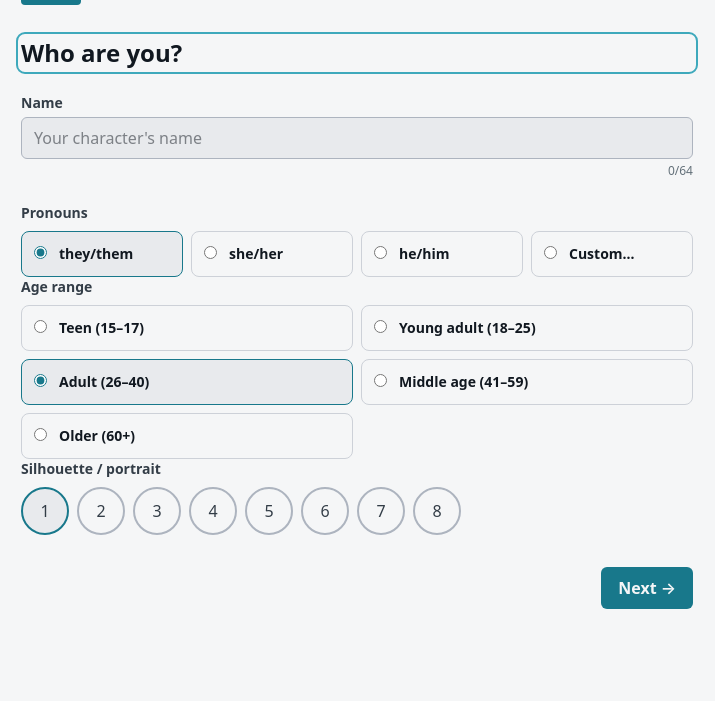
Test: CharacterCreation – step navigation › Back button preserves the name entered
Type "Alex" into the field labelled "Name" at [357, 138], box [21,117,693,159]
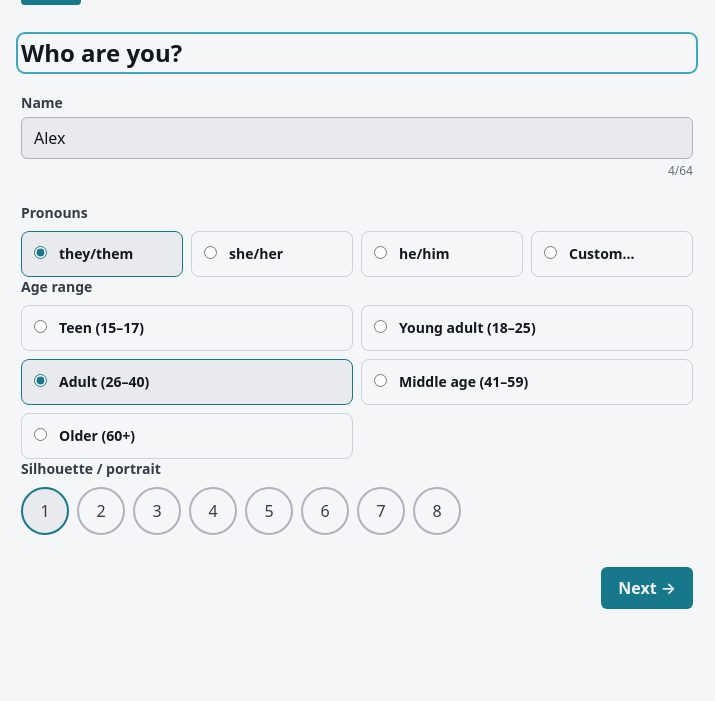
Click the button "Next →" at [647, 588], box [601,567,693,609]
(page scrolled)
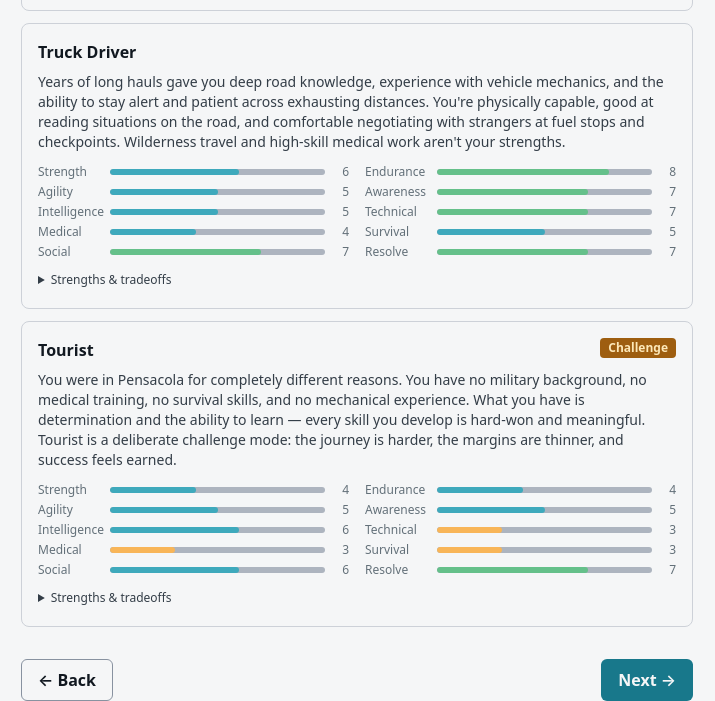
Click the button "← Back" at [67, 680], box [21,659,113,700]
(page scrolled)
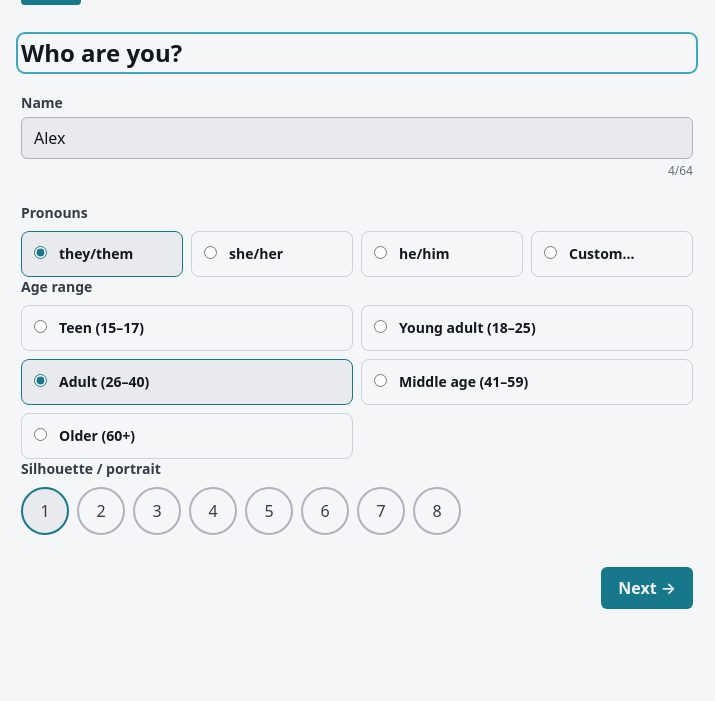
Check: the field labelled "Name" holds "Alex", box [21,117,693,159]
